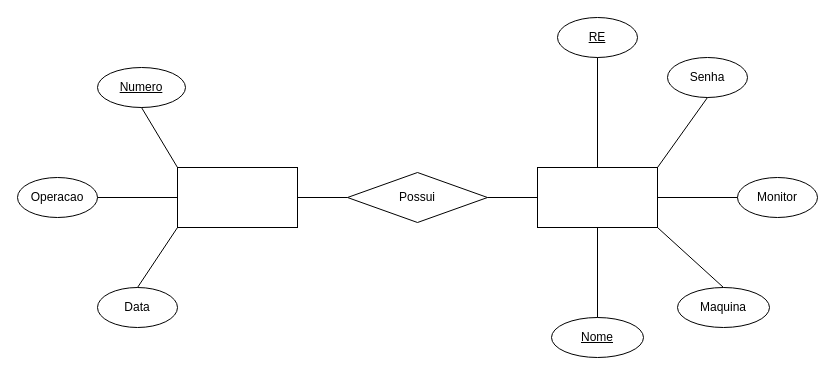
The diagram is 835 pixels wide and 375 high, and some of its shapes have lost their labels. Each missing label, with the centre of its shape:
"Funcionario" goes at [597,197].
"SIGA" goes at [237,197].
